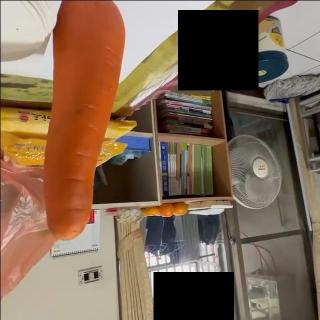carrot: (43, 0, 125, 241)
